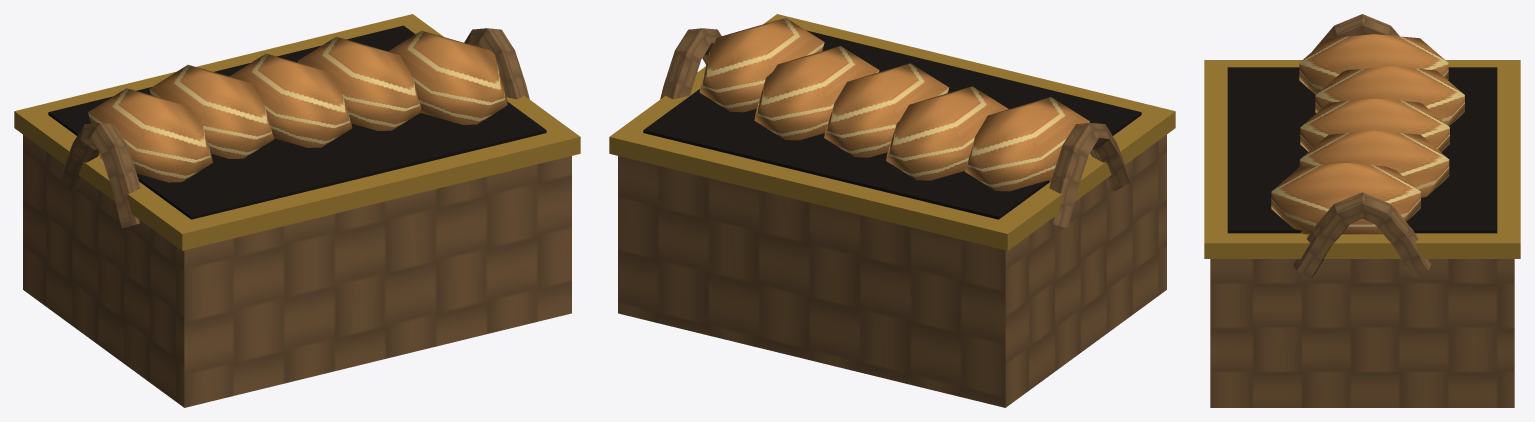
File: prop_broodmand_blue.glb
The picture shows the model from 3 angles, left to right: view 1: azimuth 30°, elevation 25°; view 2: azimuth 150°, elevation 25°; view 3: azimuth 270°, elevation 25°; orthographic projection. The views are drawn at different scales.
Parts seen in each view (by area): view 1: prop_broodmand_blue; view 2: prop_broodmand_blue; view 3: prop_broodmand_blue.
Part boxes in pixels (x1,y1,x2,y2): prop_broodmand_blue: (14,14,580,407); prop_broodmand_blue: (609,14,1175,407); prop_broodmand_blue: (1204,14,1520,407).
Size of the model in its own units: 0.3817 by 0.2075 by 0.27.
Materials: 1 (1 with a texture image).
